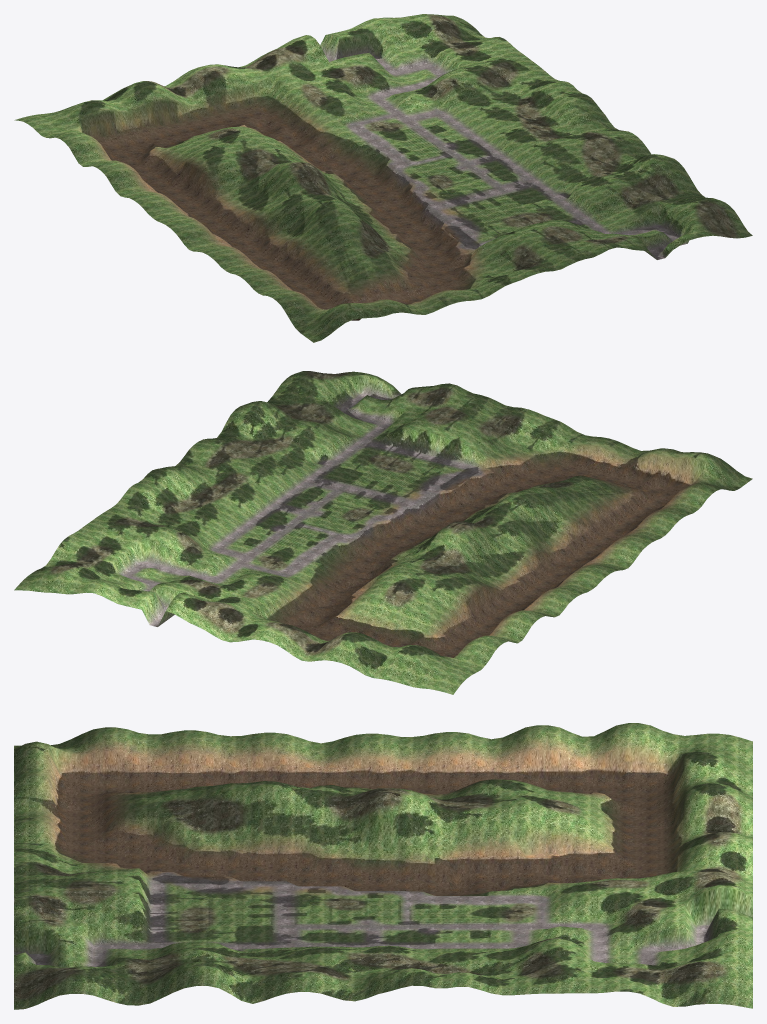
File: Terrain.fbx
3 renders of one model, top to bottom at view 1: azimuth 30°, elevation 25°; view 2: azimuth 150°, elevation 25°; view 3: azimuth 270°, elevation 25°, orthographic. The views are drawn at different scales.
Visible parts, largest first — view 1: Terreno_00; view 2: Terreno_00; view 3: Terreno_00.
Part boxes in pixels (bbox=[...]): Terreno_00: bbox=[14, 14, 752, 342]; Terreno_00: bbox=[14, 371, 752, 694]; Terreno_00: bbox=[14, 723, 752, 1009].
Bounding box in the file's own units: 249 × 27.54 × 294.
